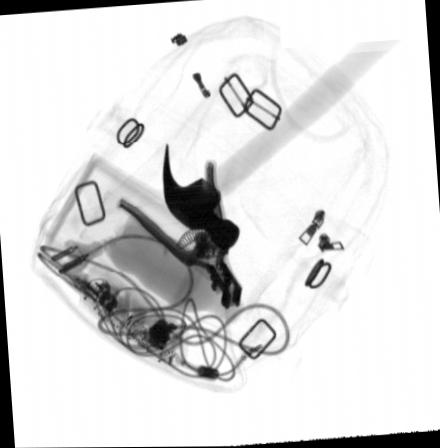Hammer: (163, 41, 400, 250)
Pliers: (118, 160, 242, 310)
